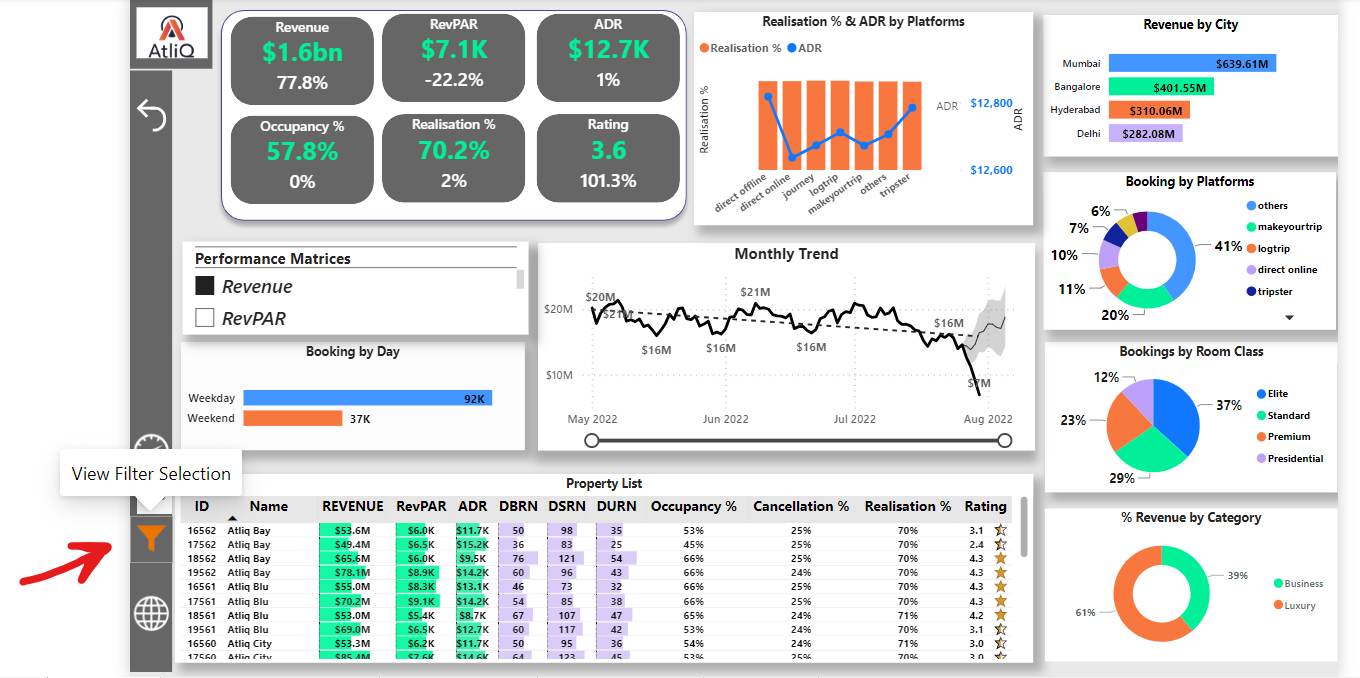

The page's visual inventory and layout, read from the dashboard file:
{"tool":"powerbi","page":{"name":"Dashboard","canvas":[1280,720],"ordinal":0},"visuals":[{"type":"shape","title":"logo BG","box":[0,0,87.4,76.3],"z":0,"group":"g8"},{"type":"shape","title":"KPI paneWhite BG","box":[87.4,4.8,511.3,241.1],"z":0,"group":"g9"},{"type":"shape","title":"5card BG","box":[267,18.2,152.1,93.8],"z":0,"group":"g4"},{"type":"shape","title":"5card BG","box":[430.4,18.2,152.1,93.8],"z":0,"group":"g2"},{"type":"shape","title":"5card BG","box":[106.8,21.5,152.1,93.8],"z":0,"group":"g1"},{"type":"shape","title":"5card BG","box":[267,125,152.1,93.8],"z":0,"group":"g5"},{"type":"shape","title":"5card BG","box":[430.4,125,152.1,93.8],"z":0,"group":"g6"},{"type":"shape","title":"5card BG","box":[106.8,126.6,152.1,93.8],"z":0,"group":"g3"},{"type":"lineChart","title":"Monthly Trend","fields":{"Y":["All Measures.Revenue"],"Category":["dim_date.date.Variation.Date Hierarchy.Year","dim_date.date.Variation.Date Hierarchy.Month","dim_date.date.Variation.Date Hierarchy.Day"]},"box":[431.7,259.4,526.7,220],"z":0,"group":"g7"},{"type":"tableEx","title":"Property List","fields":{"Values":["dim_hotels.property_id","dim_hotels.property_name","All Measures.Revenue","All Measures.RevPAR","All Measures.ADR","All Measures.DBRN","All Measures.DSRN","All Measures.DURN","All Measures.Occupancy %","All Measures.Cancellation %","All Measures.Realisation %","All Measures.Average Rating"]},"box":[47.7,505.4,909.1,200.3],"z":0},{"type":"image","title":" # AtliQ Logo","box":[1.2,0.8,85.8,73.1],"z":1000,"group":"g8"},{"type":"group","id":"g1","title":"# KPI card","box":[106.8,21,152.1,95.5],"z":1000,"group":"g9"},{"type":"card","title":"Revenur WOW %","fields":{"Values":["All Measures.\"RevPAR WoW change %"]},"box":[267.5,64.6,152.1,46.9],"z":1000,"group":"g4"},{"type":"card","title":"Revenur WOW %","fields":{"Values":["All Measures.\"ADR WoW change %"]},"box":[430.9,64.6,152.1,46.9],"z":1000,"group":"g2"},{"type":"card","title":"Revenur WOW %","fields":{"Values":["All Measures.\"Revenue WoW change %"]},"box":[107.3,67.9,152.1,46.9],"z":1000,"group":"g1"},{"type":"card","title":"Rating ","fields":{"Values":["All Measures.Average Rating"]},"box":[430.9,124.5,152.1,56.6],"z":1000,"group":"g6"},{"type":"card","title":"Revenur WOW %","fields":{"Values":["All Measures.\"Realisation WoW change %"]},"box":[267.5,171.4,152.1,46.9],"z":1000,"group":"g5"},{"type":"card","title":"Revenur WOW %","fields":{"Values":["All Measures.\"Occupancy WoW change %"]},"box":[107.3,173,152.1,46.9],"z":1000,"group":"g3"},{"type":"slicer","fields":{"Values":["Booking Matrices.Booking Matrices"]},"box":[55,258.3,366.7,98.3],"z":1000,"group":"g7"},{"type":"card","title":"RevPAR","fields":{"Values":["All Measures.RevPAR"]},"box":[267.5,17.7,152.1,56.6],"z":2000,"group":"g4"},{"type":"group","id":"g2","title":"# KPI card","box":[430.4,17.7,152.1,95.5],"z":2000,"group":"g9"},{"type":"card","title":"ADR","fields":{"Values":["All Measures.ADR"]},"box":[430.9,17.7,152.1,56.6],"z":2000,"group":"g2"},{"type":"card","title":"Revenue","fields":{"Values":["All Measures.Revenue"]},"box":[107.3,21,152.1,56.6],"z":2000,"group":"g1"},{"type":"card","title":"Realisation %","fields":{"Values":["All Measures.Realisation %"]},"box":[267.5,124.5,152.1,56.6],"z":2000,"group":"g5"},{"type":"card","title":"Occupancy %","fields":{"Values":["All Measures.Occupancy %"]},"box":[107.3,126.1,152.1,56.6],"z":2000,"group":"g3"},{"type":"card","title":"Rating WOW %","fields":{"Values":["All Measures.\"Rating WoW change %"]},"box":[430.4,171.4,152.1,46.9],"z":2000,"group":"g6"},{"type":"pieChart","title":"Bookings by Room Class","fields":{"Category":["dim_rooms.room_class"],"Y":["All Measures.Total Bookings"]},"box":[968.9,365.6,309.8,159],"z":2000},{"type":"clusteredBarChart","title":"Revenue by City","fields":{"Category":["dim_hotels.city"],"Y":["All Measures.Revenue"]},"box":[967.9,22.3,311.5,149.4],"z":3000},{"type":"group","id":"g3","title":"# KPI card","box":[106.8,126.1,152.1,95.5],"z":3000,"group":"g9"},{"type":"group","id":"g4","title":"# KPI card","box":[267,17.7,152.1,95.5],"z":4000,"group":"g9"},{"type":"donutChart","title":"Booking by Platforms","fields":{"Category":["fact_bookings.booking_platform"],"Y":["All Measures.Total Bookings"]},"box":[969.5,182.8,309.9,166.9],"z":4000},{"type":"shape","title":"Navigation bar BG","box":[0,77.9,44.5,637.4],"z":5000},{"type":"group","id":"g5","title":"# KPI card","box":[267,124.5,152.1,95.5],"z":5000,"group":"g9"},{"type":"actionButton","title":"reset button ","box":[0,95.4,46.1,58.8],"z":6000},{"type":"group","id":"g6","title":"# KPI card","box":[430.4,124.5,152.6,94.4],"z":6000,"group":"g9"},{"type":"clusteredBarChart","title":"Booking by Day","fields":{"Y":["All Measures.Total Bookings"],"Category":["dim_date.Day Type #DAX"]},"box":[55.6,365.6,364,114.4],"z":7000},{"type":"actionButton","title":"navi pane - map icon ","box":[0,619.7,45.3,66.3],"z":8000},{"type":"actionButton","title":"navi pane - filter icon ","box":[0,550.2,45.3,48.5],"z":9000},{"type":"group","id":"g7","title":"# Trend line graph","box":[55,258.3,903.3,221.7],"z":10000},{"type":"lineStackedColumnComboChart","title":"Realisation % & ADR by Platforms","fields":{"Category":["fact_bookings.booking_platform"],"Y":["All Measures.Realisation %"],"Y2":["All Measures.ADR"]},"box":[598.4,16.4,359,226.2],"z":11000},{"type":"donutChart","title":"% Revenue by Category","fields":{"Category":["dim_hotels.category"],"Y":["All Measures.Revenue"]},"box":[968.9,542.6,309.8,162.3],"z":12000},{"type":"group","id":"g8","title":"# LOGO","box":[0,0,87.4,76.3],"z":13000},{"type":"group","id":"g9","title":"# KPIs","box":[87.4,4.8,511.8,240],"z":14000},{"type":"actionButton","box":[0,443.3,45,73.3],"z":17000}]}

Visuals, with their boxes on the page's 1280x720 design canvas (x1, y1, x2, y2). These are canvas units, not pixel positions in the 1360x678 screenshot, which may show the page scaled, cropped or inside an application window:
"logo BG" shape: left=0, top=0, right=87, bottom=76
"KPI paneWhite BG" shape: left=87, top=5, right=599, bottom=246
"5card BG" shape: left=267, top=18, right=419, bottom=112
"5card BG" shape: left=430, top=18, right=582, bottom=112
"5card BG" shape: left=107, top=22, right=259, bottom=115
"5card BG" shape: left=267, top=125, right=419, bottom=219
"5card BG" shape: left=430, top=125, right=582, bottom=219
"5card BG" shape: left=107, top=127, right=259, bottom=220
"Monthly Trend" lineChart: left=432, top=259, right=958, bottom=479
"Property List" tableEx: left=48, top=505, right=957, bottom=706
" # AtliQ Logo" image: left=1, top=1, right=87, bottom=74
"# KPI card" group: left=107, top=21, right=259, bottom=116
"Revenur WOW %" card: left=268, top=65, right=420, bottom=112
"Revenur WOW %" card: left=431, top=65, right=583, bottom=112
"Revenur WOW %" card: left=107, top=68, right=259, bottom=115
"Rating " card: left=431, top=124, right=583, bottom=181
"Revenur WOW %" card: left=268, top=171, right=420, bottom=218
"Revenur WOW %" card: left=107, top=173, right=259, bottom=220
slicer - Booking Matrices.Booking Matrices: left=55, top=258, right=422, bottom=357
"RevPAR" card: left=268, top=18, right=420, bottom=74
"# KPI card" group: left=430, top=18, right=582, bottom=113
"ADR" card: left=431, top=18, right=583, bottom=74
"Revenue" card: left=107, top=21, right=259, bottom=78
"Realisation %" card: left=268, top=124, right=420, bottom=181
"Occupancy %" card: left=107, top=126, right=259, bottom=183
"Rating WOW %" card: left=430, top=171, right=582, bottom=218
"Bookings by Room Class" pieChart: left=969, top=366, right=1279, bottom=525
"Revenue by City" clusteredBarChart: left=968, top=22, right=1279, bottom=172
"# KPI card" group: left=107, top=126, right=259, bottom=222
"# KPI card" group: left=267, top=18, right=419, bottom=113
"Booking by Platforms" donutChart: left=970, top=183, right=1279, bottom=350
"Navigation bar BG" shape: left=0, top=78, right=44, bottom=715
"# KPI card" group: left=267, top=124, right=419, bottom=220
"reset button " actionButton: left=0, top=95, right=46, bottom=154
"# KPI card" group: left=430, top=124, right=583, bottom=219
"Booking by Day" clusteredBarChart: left=56, top=366, right=420, bottom=480
"navi pane - map icon " actionButton: left=0, top=620, right=45, bottom=686
"navi pane - filter icon " actionButton: left=0, top=550, right=45, bottom=599
"# Trend line graph" group: left=55, top=258, right=958, bottom=480
"Realisation % & ADR by Platforms" lineStackedColumnComboChart: left=598, top=16, right=957, bottom=243
"% Revenue by Category" donutChart: left=969, top=543, right=1279, bottom=705
"# LOGO" group: left=0, top=0, right=87, bottom=76
"# KPIs" group: left=87, top=5, right=599, bottom=245
actionButton: left=0, top=443, right=45, bottom=517
